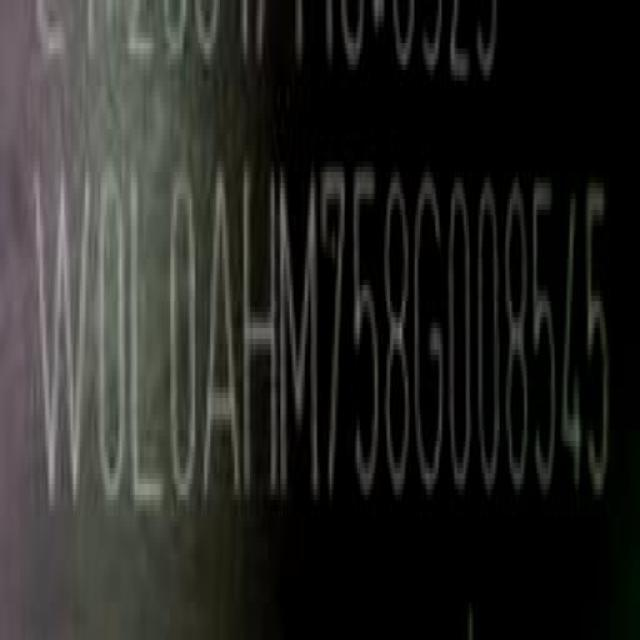0: (95, 160, 128, 522), (168, 158, 200, 516), (451, 176, 477, 500), (477, 177, 502, 501)
4: (562, 179, 582, 504)
5: (353, 162, 382, 511), (587, 180, 614, 504), (531, 173, 555, 503)
7: (322, 157, 347, 510)
8: (386, 171, 412, 506), (504, 177, 530, 501)
A: (204, 158, 241, 515)
G: (415, 170, 446, 505)
H: (243, 158, 279, 512)
L: (130, 160, 161, 522)
M: (281, 161, 320, 514)
W: (34, 162, 89, 530)
